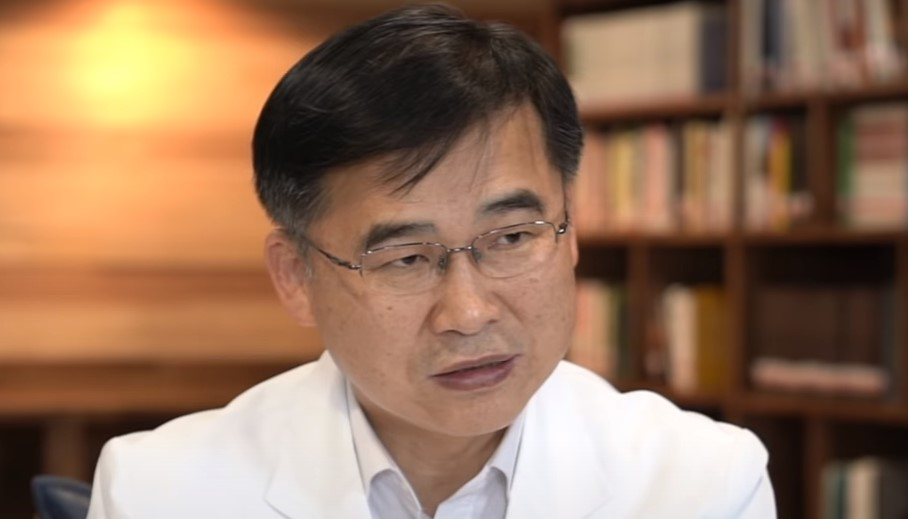face_no_mask: (272, 48, 587, 440)
